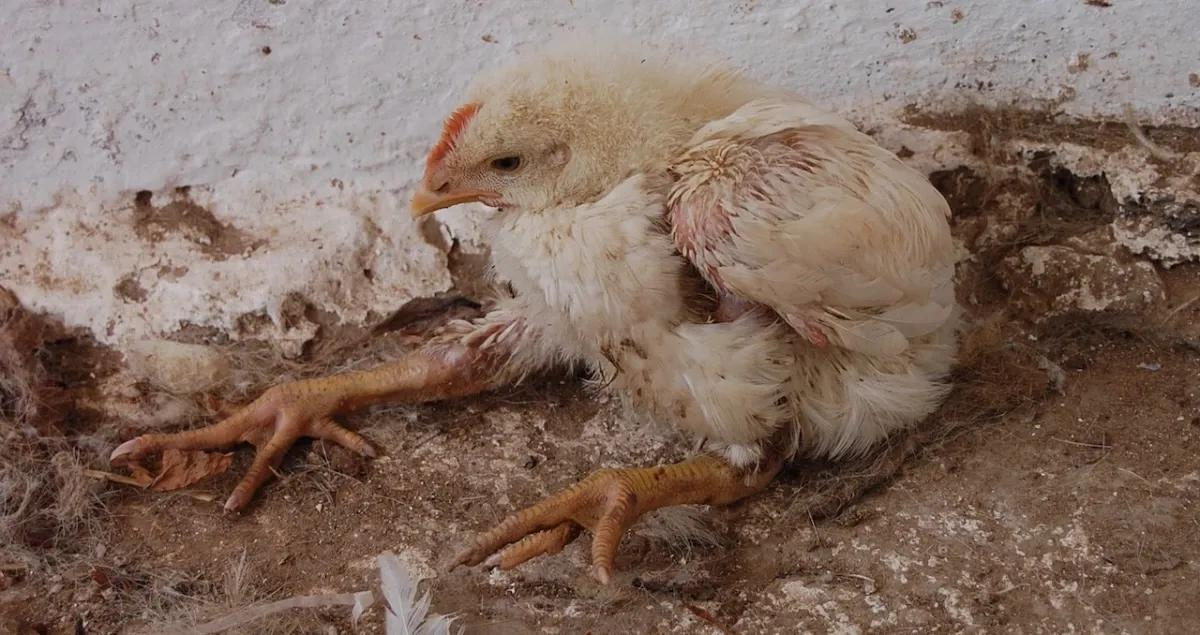AbNormal: (137, 30, 975, 578)
